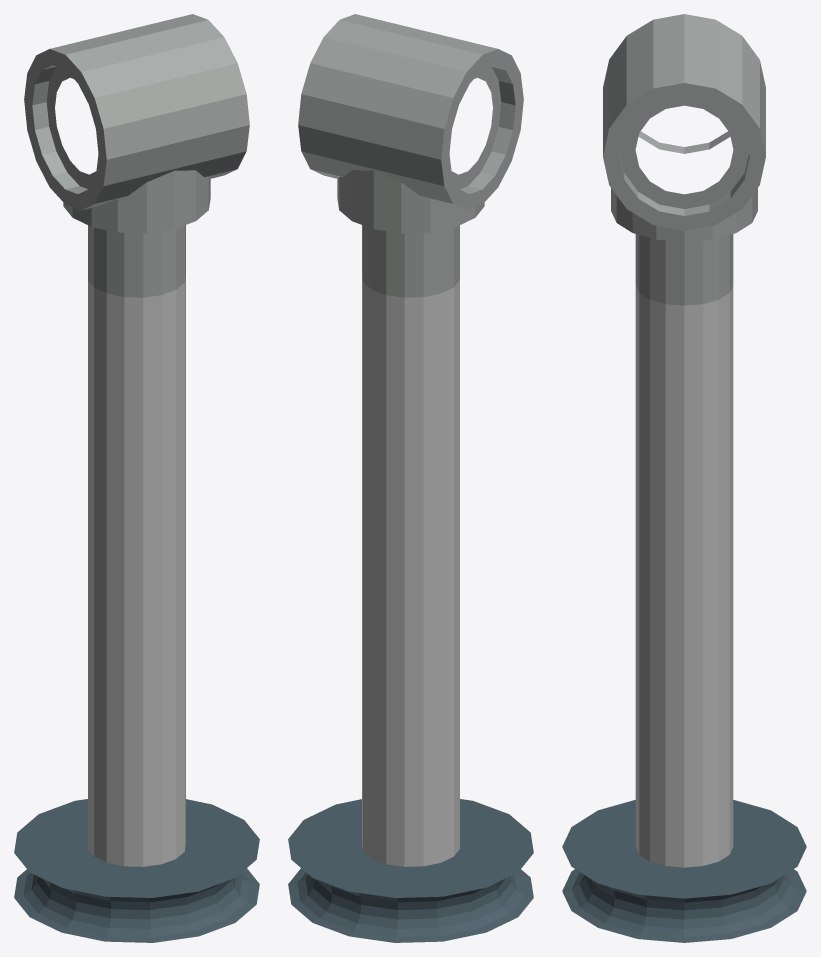
3 views of the same model, side by side, from view 1: azimuth 30°, elevation 25°; view 2: azimuth 150°, elevation 25°; view 3: azimuth 270°, elevation 25° (orthographic).
Parts seen in each view (by area): view 1: world; view 2: world; view 3: world.
Part boxes in pixels (left/top/right/bottom): world: left=14, top=14, right=259, bottom=942; world: left=288, top=14, right=533, bottom=942; world: left=562, top=14, right=806, bottom=942.
Size of the model in its own units: 0.012 by 0.0464 by 0.012.
